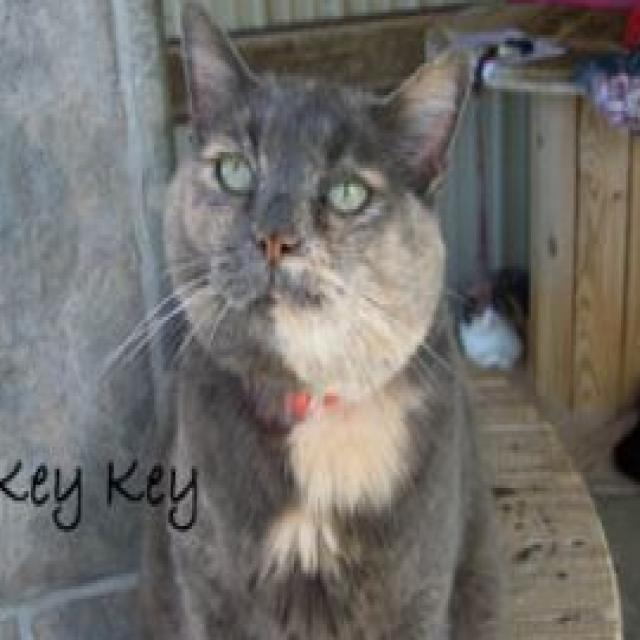British Shorthair: (149, 0, 510, 640)
